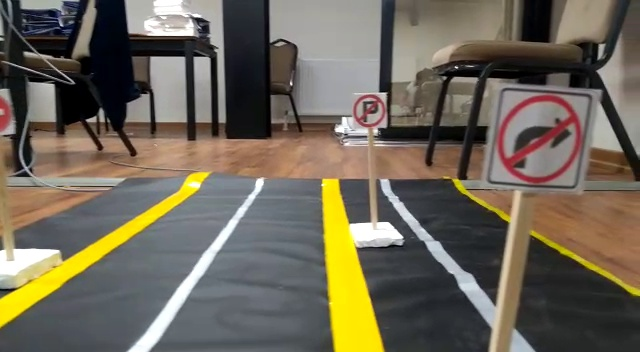park_yapilmaz: (353, 91, 388, 127)
saga_donulmez: (498, 85, 578, 187)
